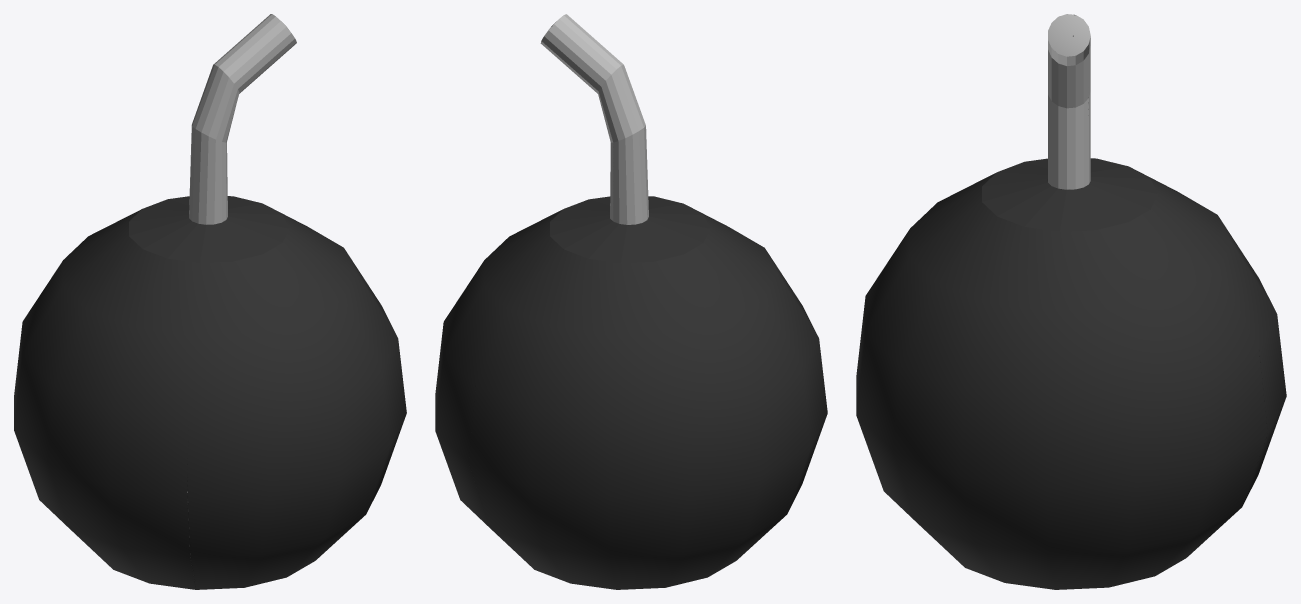
The model's file is Bomba.fbx.
3 renders of one model, left to right at view 1: azimuth 30°, elevation 25°; view 2: azimuth 150°, elevation 25°; view 3: azimuth 270°, elevation 25°, orthographic. The views are drawn at different scales.
Parts seen in each view (by area): view 1: Sphere001; view 2: Sphere001; view 3: Sphere001.
Part boxes in pixels (x1,y1,x2,y2): Sphere001: [14, 14, 406, 589]; Sphere001: [435, 14, 827, 589]; Sphere001: [856, 14, 1286, 589].
Size of the model in its own units: 42.18 by 64.02 by 41.95.
